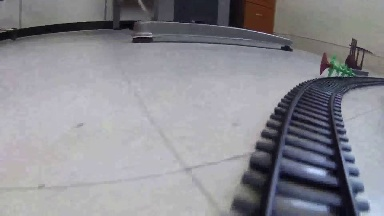tree: (318, 51, 358, 79)
